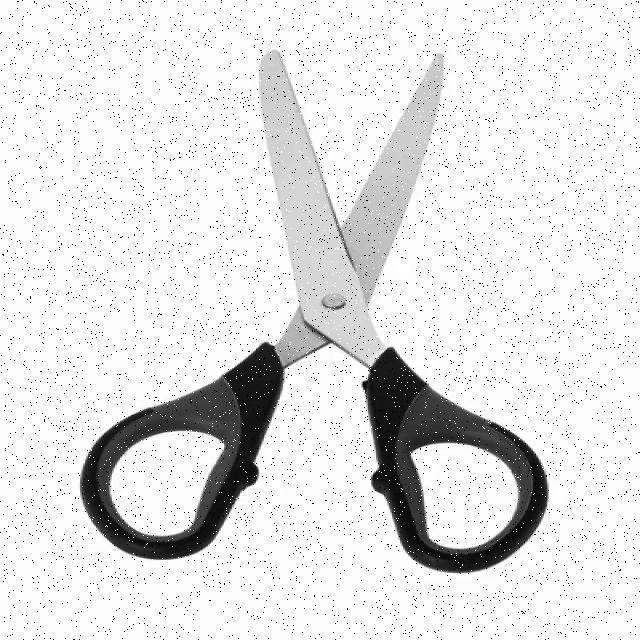scissors: (75, 43, 558, 580)
